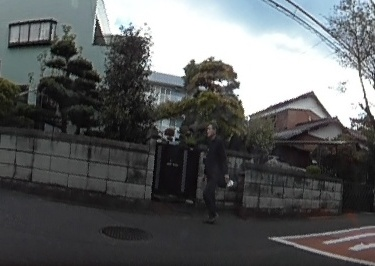person: (199, 120, 230, 218)
